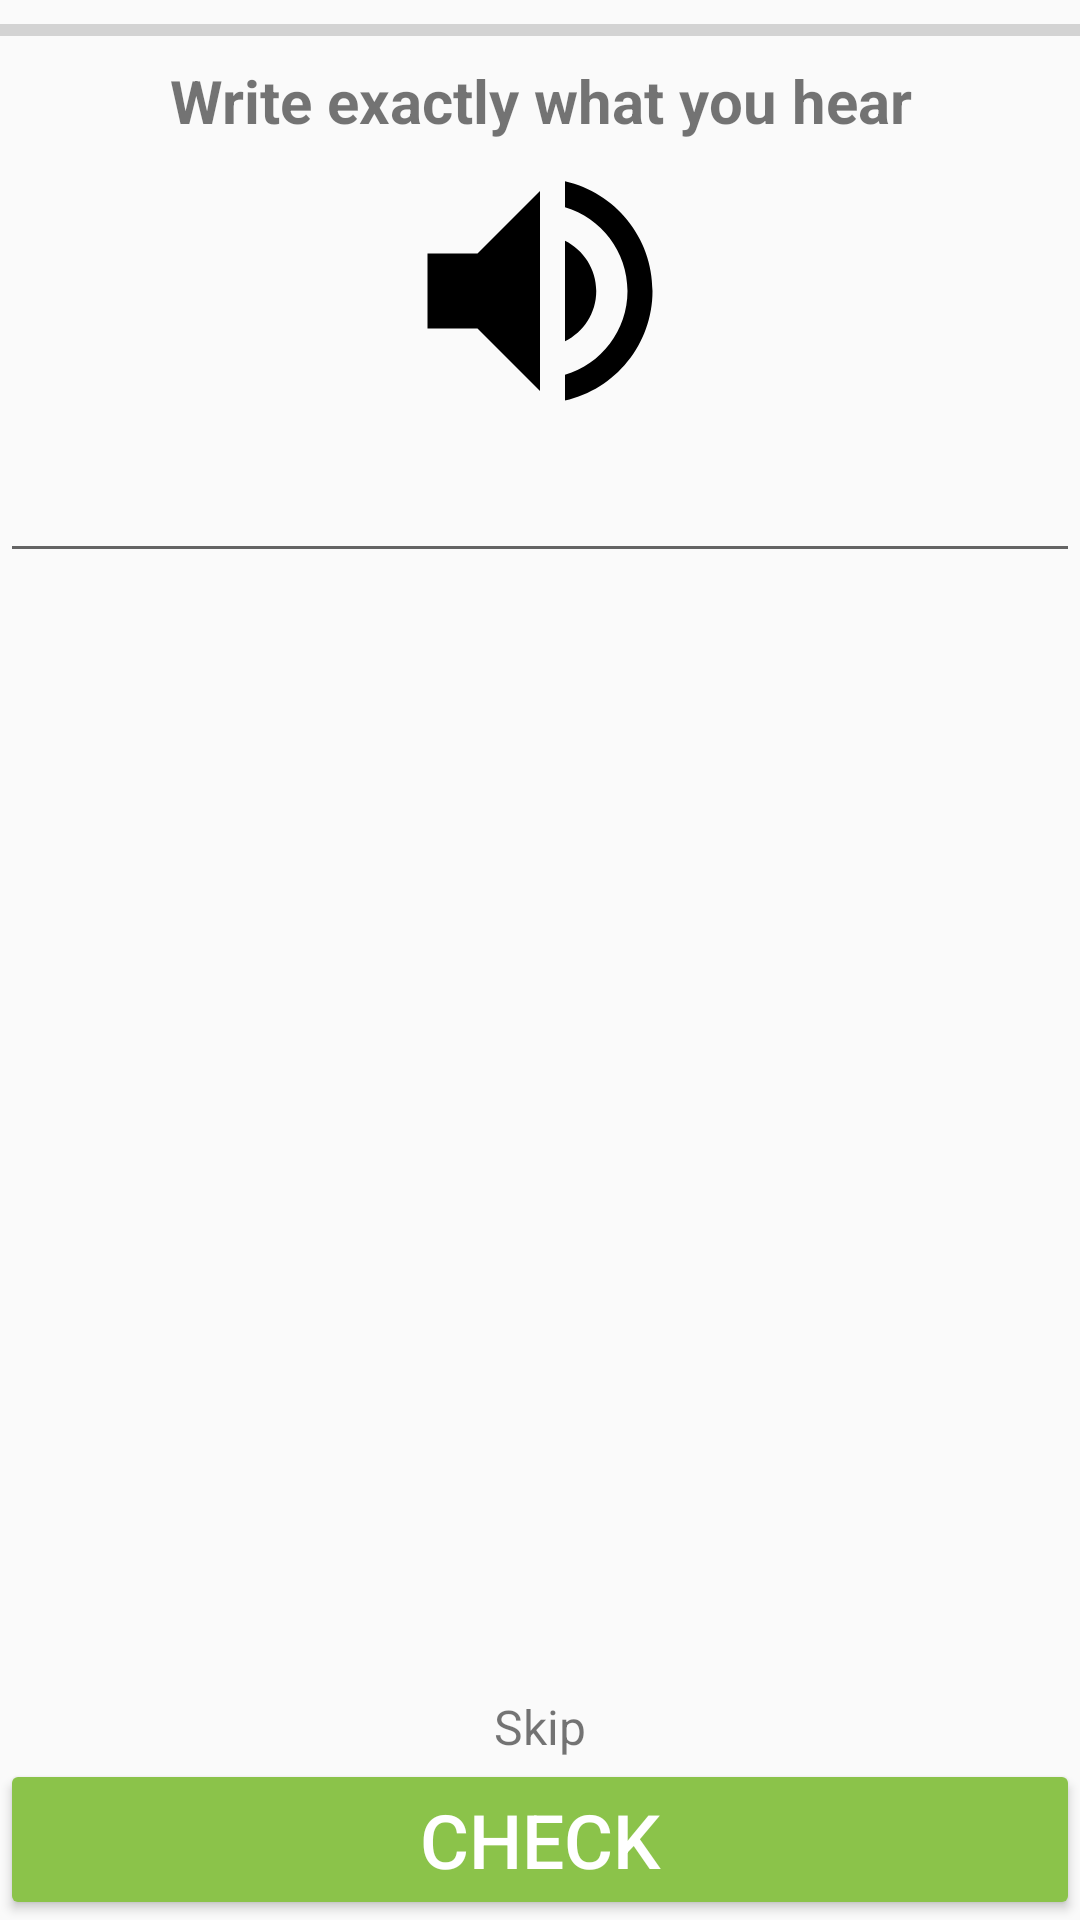

Icons on this 1080*1920 Android screen, each with its box as (x1, y1, x2, y2):
speaker: (427, 181, 653, 401)
